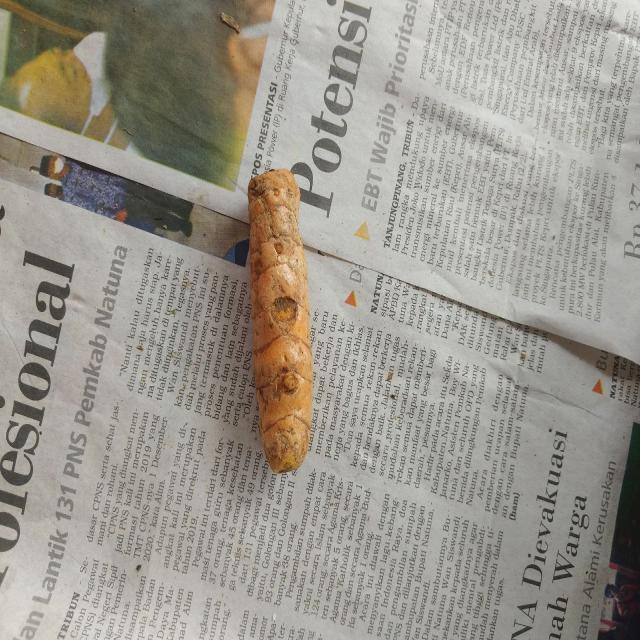ginger: (245, 170, 315, 462)
